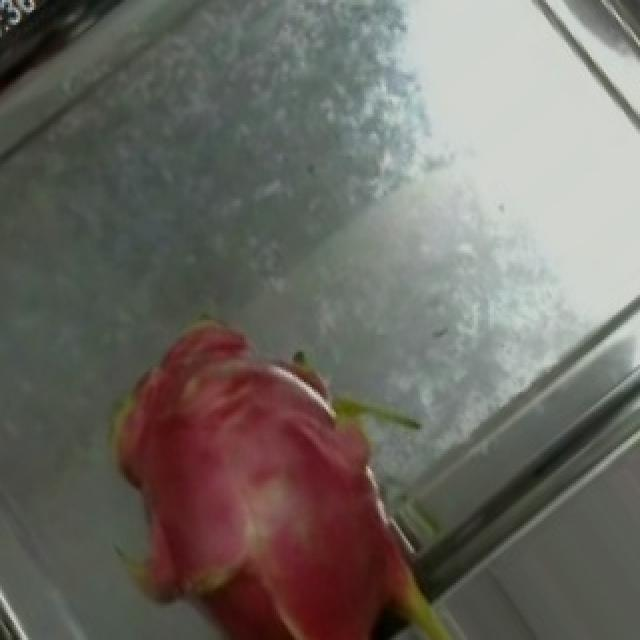fruit: (2, 265, 360, 640)
